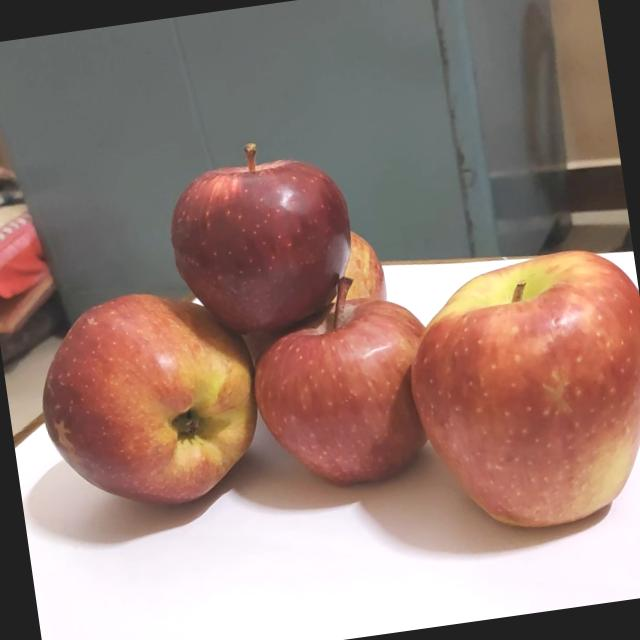apple: (388, 236, 640, 547), (22, 276, 270, 527), (238, 262, 446, 504), (153, 125, 370, 346), (313, 222, 392, 318)
